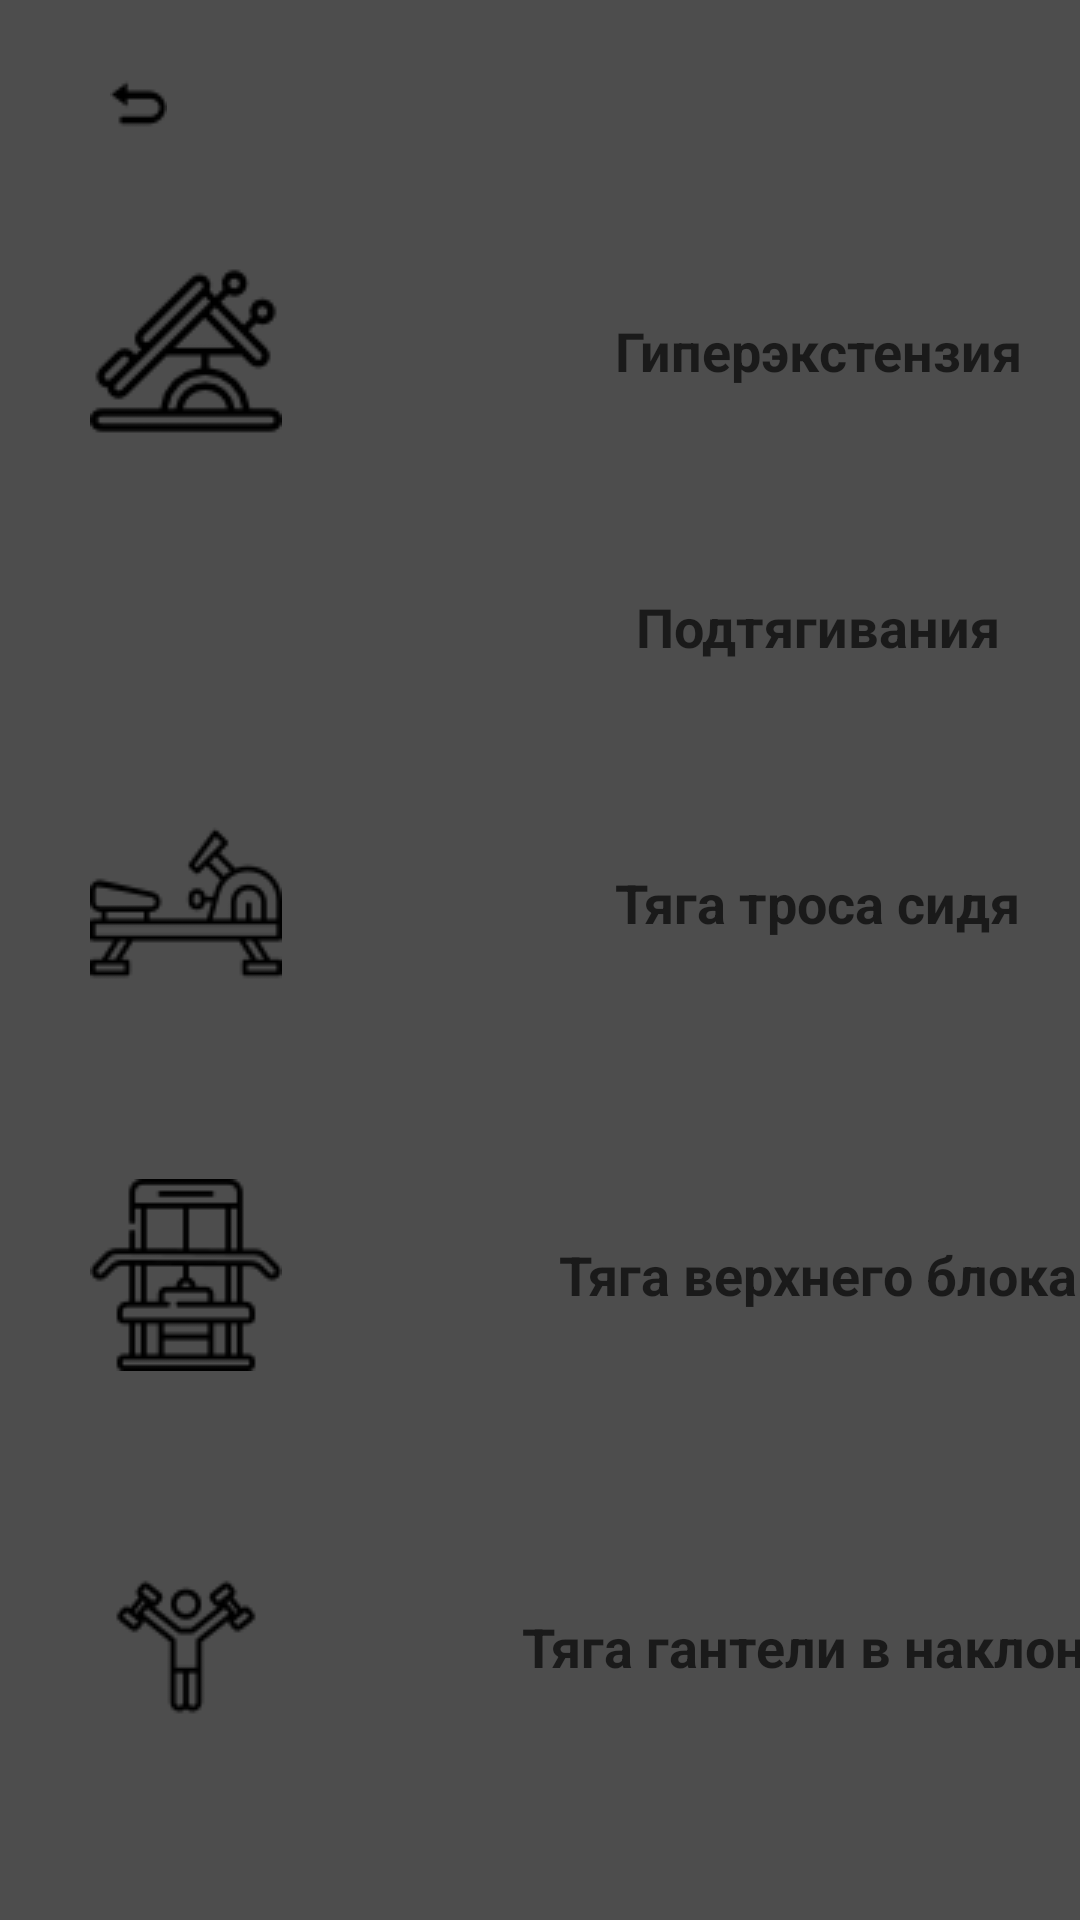

Icons on this 1080px x 1920px Android screen, each with the point to tap as (x,y):
hyperextenzia: (186,351)
return: (139,104)
tyaga bloka: (186,1275)
tyaga ganteli: (186,1647)
tyaga trosa: (186,903)
